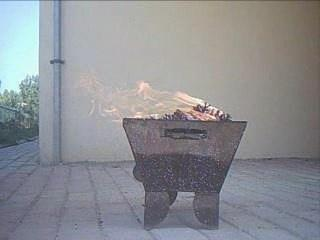fire: (66, 60, 254, 136)
